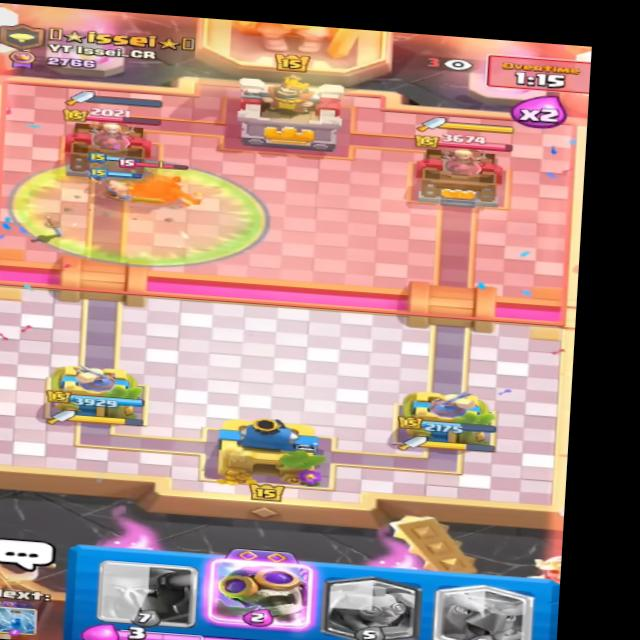goblin-demolisher: (118, 156, 206, 214)
